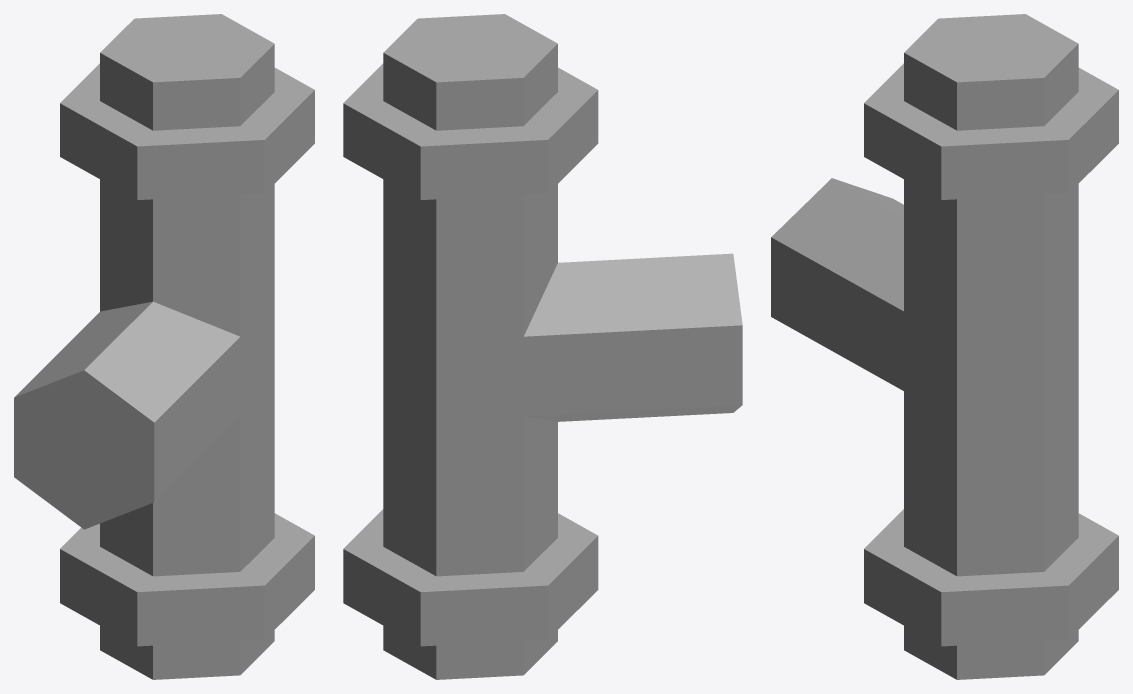
The model's file is Building Pipe 5.fbx.
3 views of the same model, side by side, from view 1: azimuth 30°, elevation 25°; view 2: azimuth 150°, elevation 25°; view 3: azimuth 270°, elevation 25° (orthographic).
Parts seen in each view (by area): view 1: Building Pipe 5; view 2: Building Pipe 5; view 3: Building Pipe 5.
Boxes of the visible parts, bbox=[...] form: Building Pipe 5: bbox=[14, 14, 314, 679]; Building Pipe 5: bbox=[343, 14, 742, 679]; Building Pipe 5: bbox=[771, 14, 1118, 679].
Size of the model in its own units: 60.15 by 55.72 by 106.
